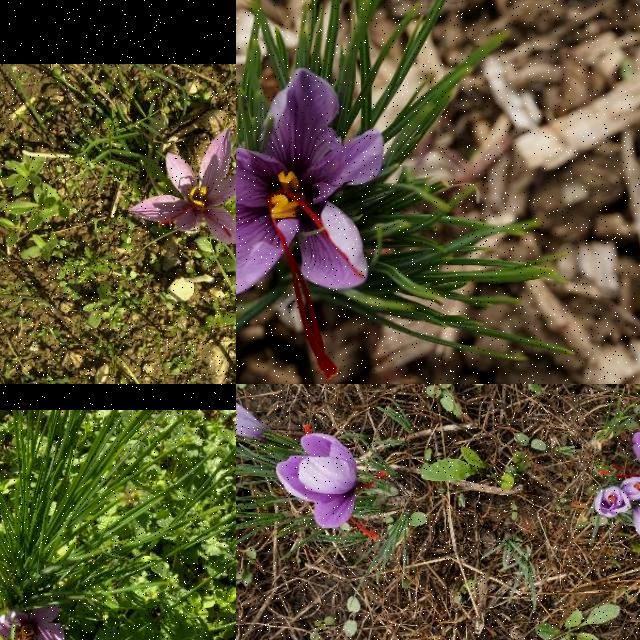flower: (236, 69, 384, 382), (277, 423, 387, 541), (128, 129, 236, 245), (599, 431, 640, 505), (0, 603, 65, 640), (236, 387, 266, 440), (594, 487, 632, 519), (621, 476, 640, 501), (632, 505, 640, 543)
